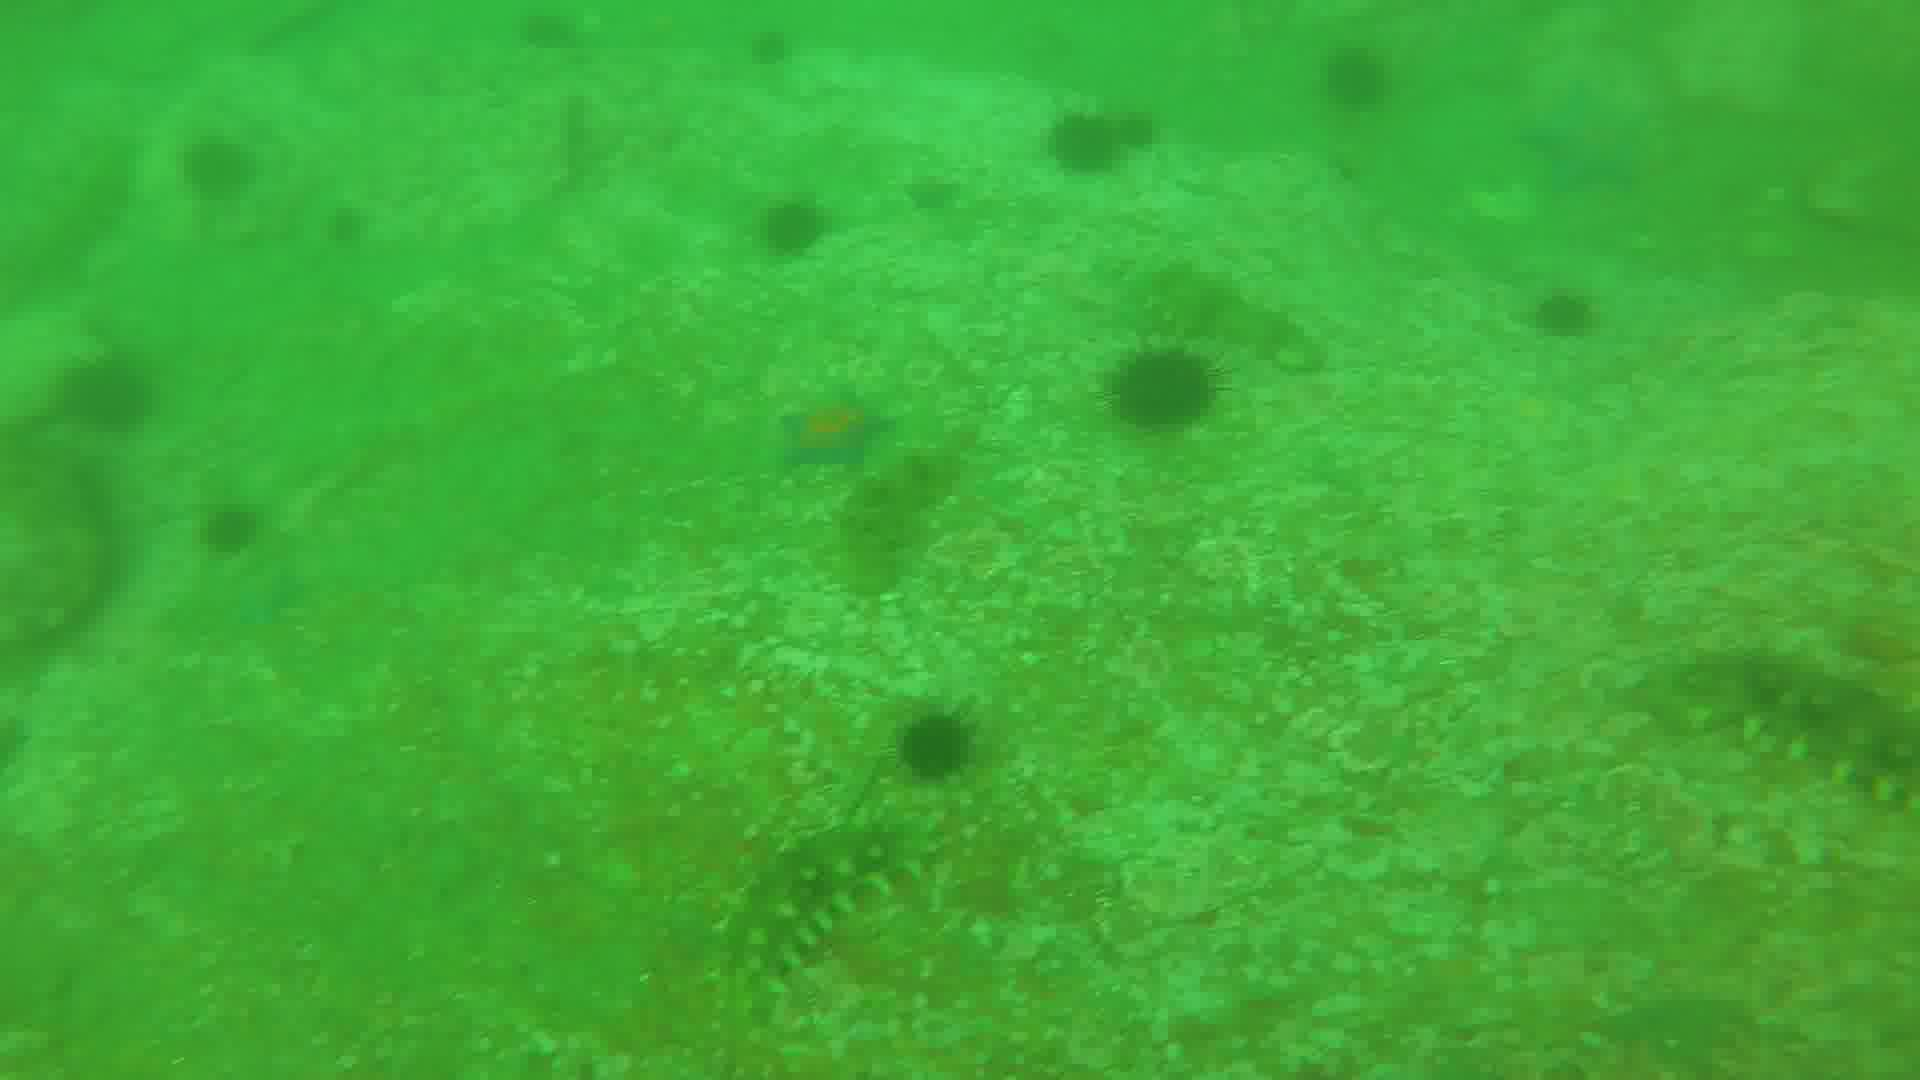echinus: (1116, 355, 1226, 433), (65, 349, 156, 435), (895, 707, 981, 771), (1052, 108, 1120, 178), (181, 138, 260, 196), (764, 196, 837, 257), (1104, 98, 1170, 158), (1324, 50, 1391, 109), (1534, 285, 1601, 332), (204, 513, 264, 558)
holothurian: (715, 810, 935, 1025), (1640, 646, 1920, 815), (1129, 266, 1327, 375)
starfish: (1534, 84, 1658, 196), (781, 393, 893, 477), (902, 174, 963, 212)
